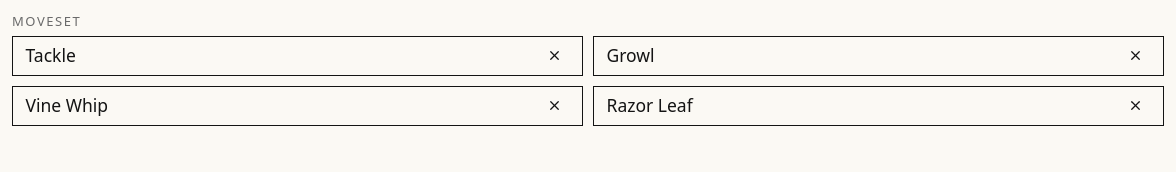
it: MovesetField › clearing a move leaves its slot empty and the others where they were
The width and height of the screenshot is (1176, 172).
Click the button named "Remove Growl" at (1136, 56), box [1120,41,1150,71]
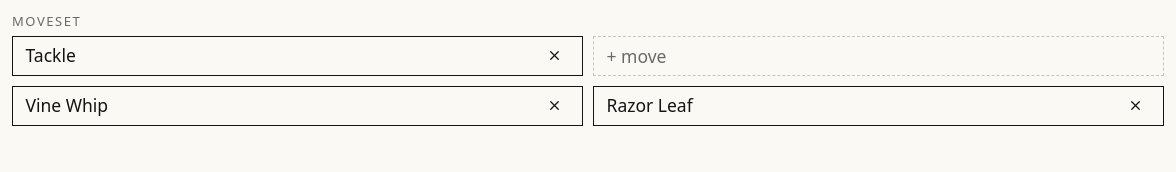
Check: the text "Growl" is gone
